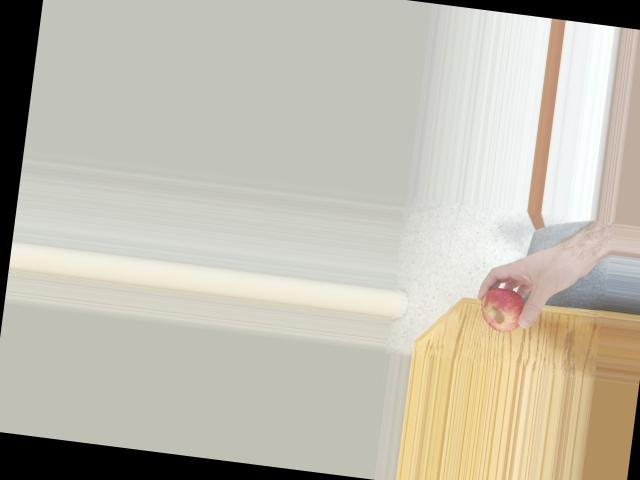apple: (475, 283, 532, 336)
